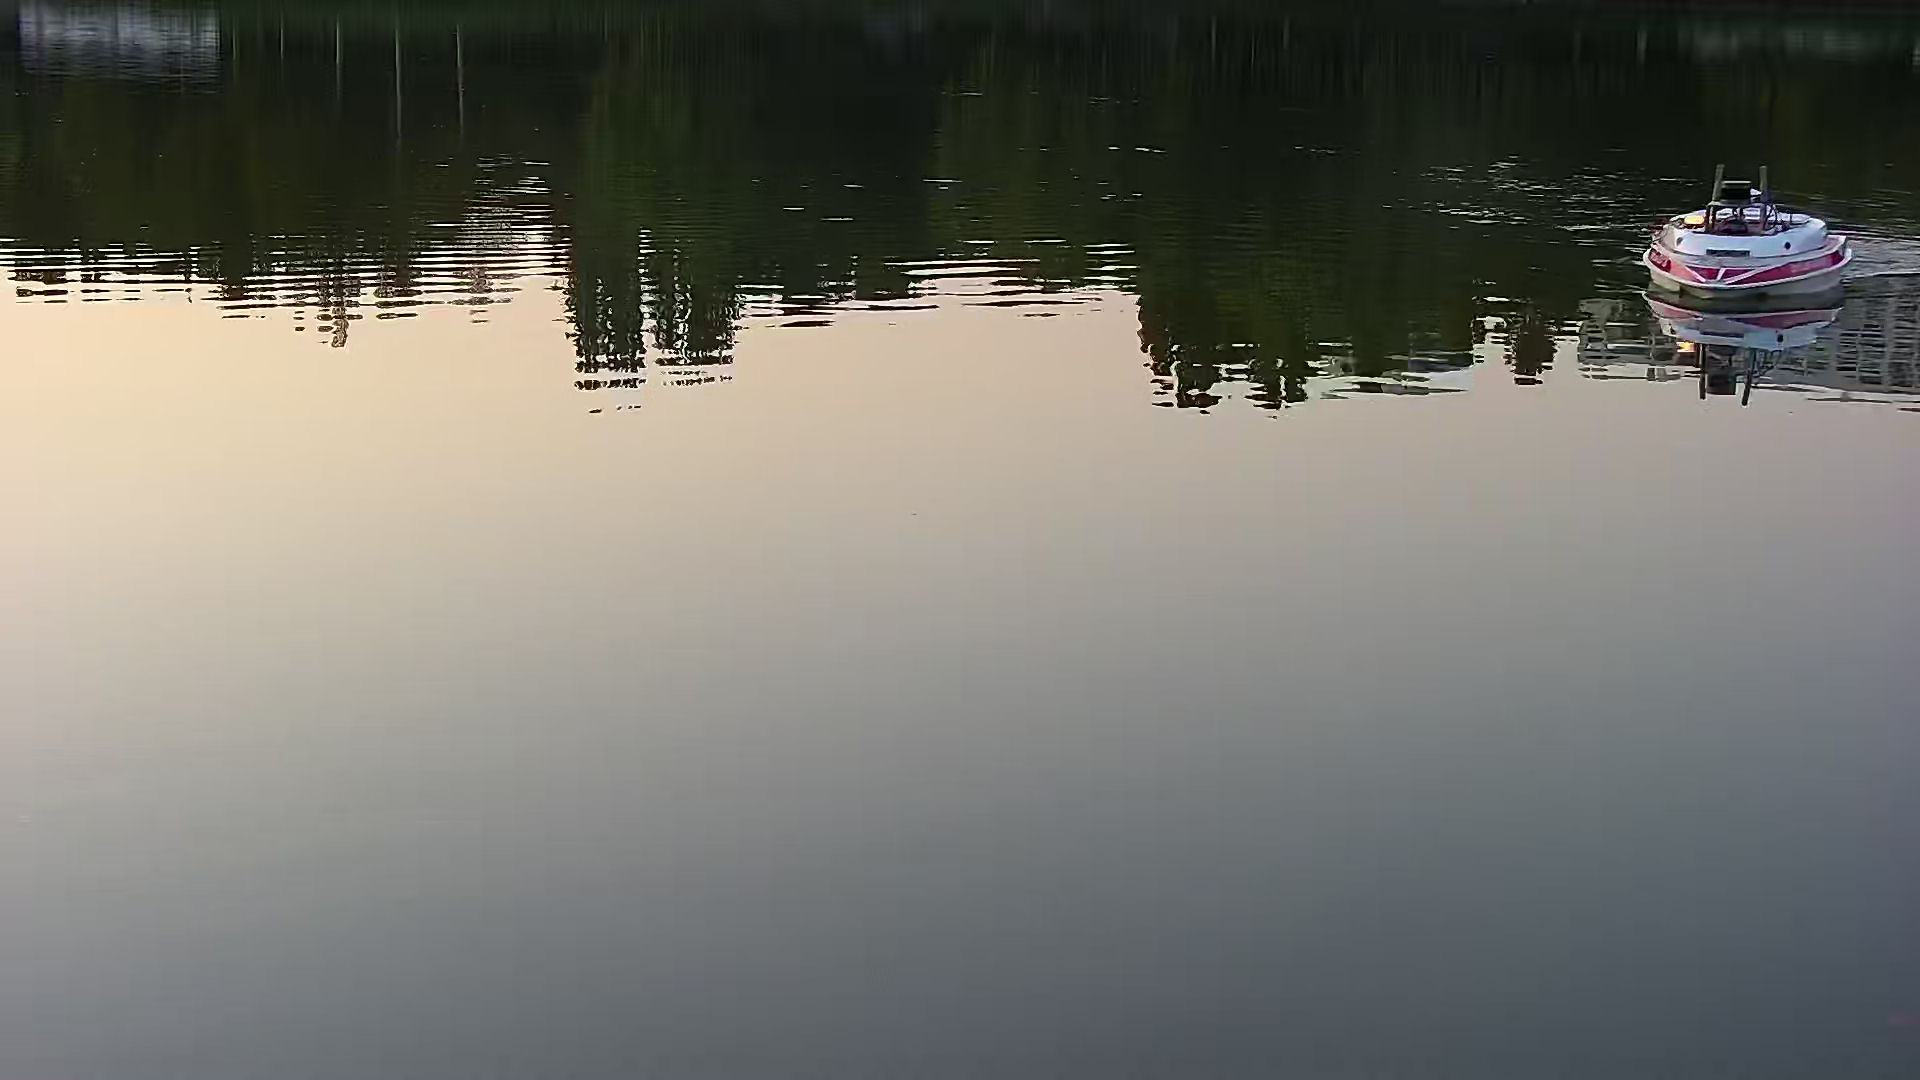boat: (1635, 164, 1855, 326)
